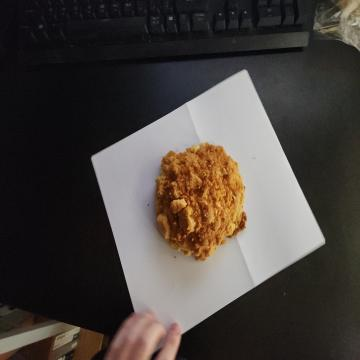soboru_bread: (155, 144, 251, 264)
